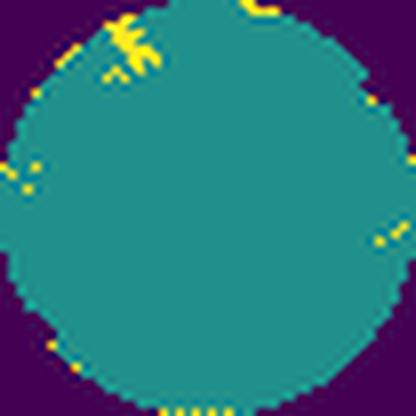Loc: (109, 19, 165, 75)
